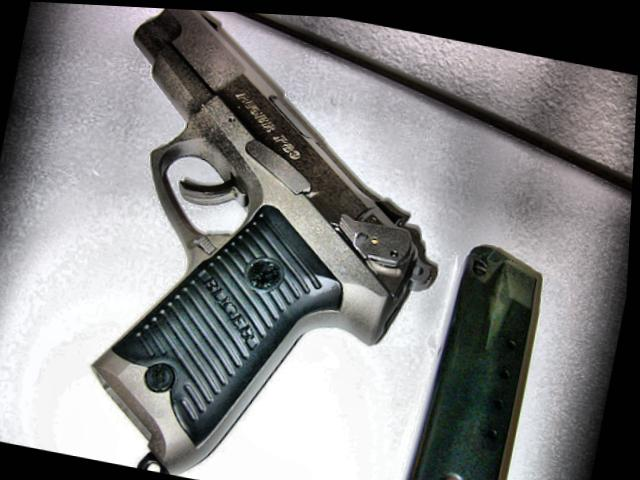pistol: (47, 3, 481, 480)
